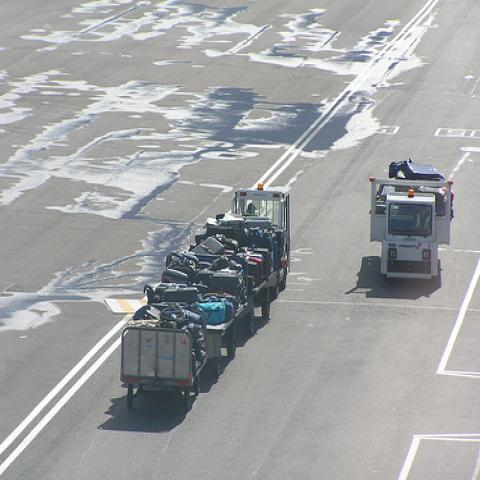truck: (121, 187, 290, 413), (368, 158, 455, 280)
